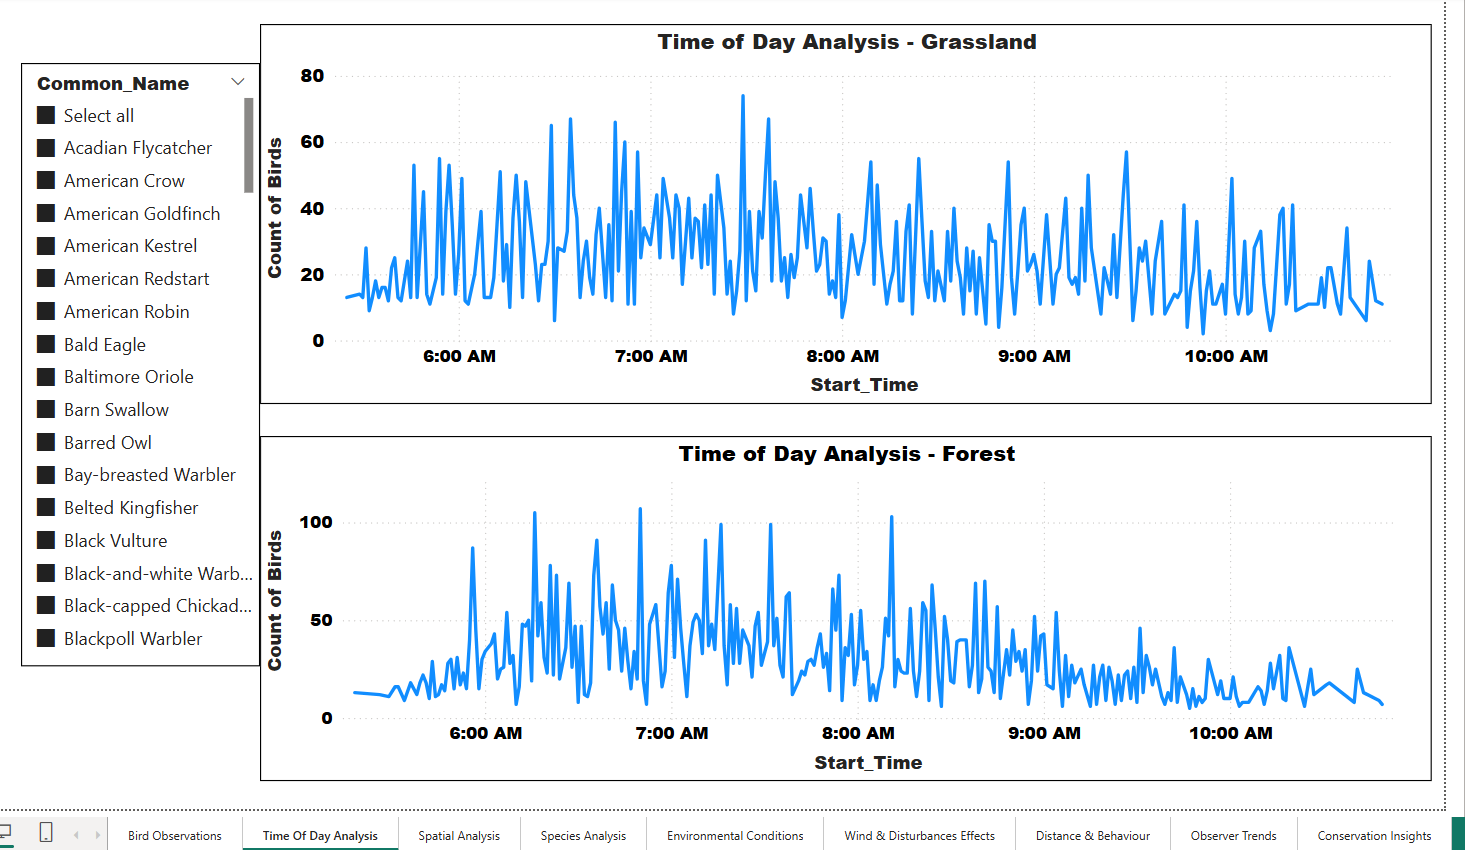

The page's visual inventory and layout, read from the dashboard file:
{"tool":"powerbi","page":{"name":"Time Of Day Analysis","canvas":[1280,720],"ordinal":1},"visuals":[{"type":"lineChart","title":"Time of Day Analysis - Grassland","fields":{"Category":["birdobservation_db grassland_bird_observations.Start_Time"],"Y":["CountNonNull(birdobservation_db grassland_bird_observations.Observation_ID)"]},"box":[230.6,23.9,1039,336.6],"z":0},{"type":"lineChart","title":"Time of Day Analysis - Forest","fields":{"Category":["birdobservation_db forest_bird_observations.Start_Time"],"Y":["CountNonNull(birdobservation_db forest_bird_observations.Observation_ID)"]},"box":[230.6,389.6,1039,306.5],"z":1000},{"type":"slicer","fields":{"Values":["BirdSpecies.Common_Name"]},"box":[18.9,58.9,212.2,535.1],"z":2000}]}

Visuals, with their boxes in screenshot pixels (x1, y1, x2, y2):
"Time of Day Analysis - Grassland" lineChart: crop(256, 19, 1429, 399)
"Time of Day Analysis - Forest" lineChart: crop(256, 432, 1429, 778)
slicer - BirdSpecies.Common_Name: crop(18, 59, 257, 663)
